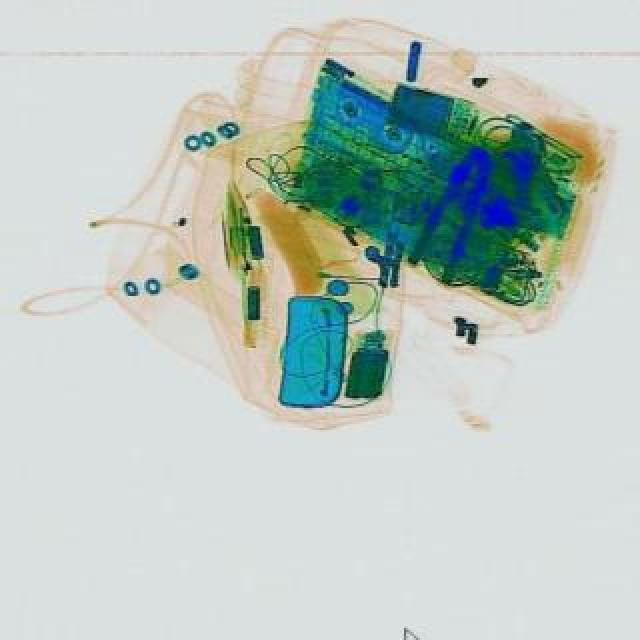wrench: (402, 138, 500, 286)
